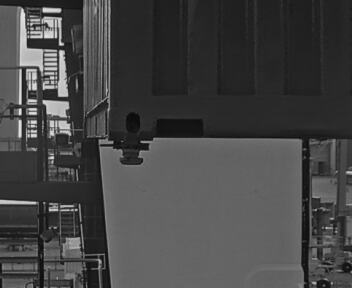twist_lock_1: (107, 131, 154, 171)
